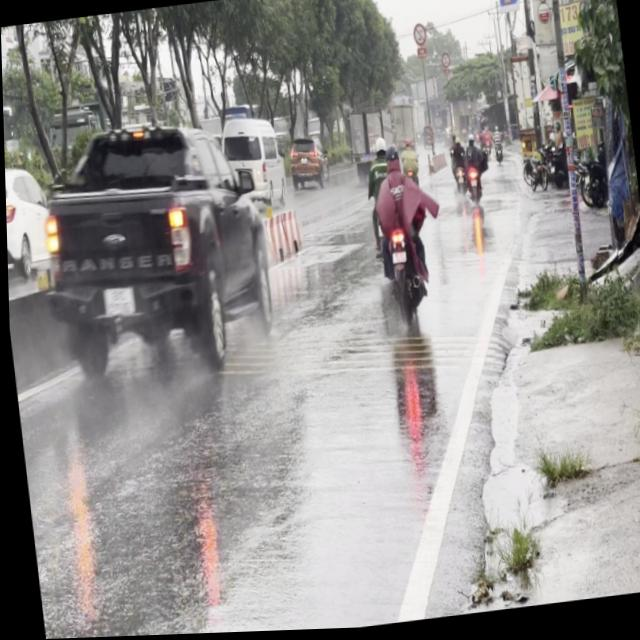helmet: (380, 144, 399, 174)
licenseplate: (361, 138, 445, 337)
nohelmet: (391, 253, 404, 266)
